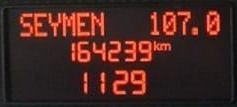-: (188, 23, 198, 37)
0: (203, 6, 219, 38), (162, 8, 176, 35)
1: (149, 10, 160, 36), (81, 68, 90, 95), (99, 66, 106, 97), (69, 40, 76, 65)
2: (112, 70, 126, 98), (107, 38, 120, 62)
3: (124, 38, 136, 62)
4: (91, 40, 106, 61)
6: (76, 38, 89, 62)
7: (176, 9, 189, 36)
9: (128, 69, 146, 97), (138, 39, 151, 63)
X: (75, 10, 88, 38), (33, 11, 46, 38), (90, 10, 104, 35), (19, 11, 32, 37), (62, 11, 75, 37), (48, 11, 60, 37), (159, 41, 172, 51), (151, 39, 159, 51)
